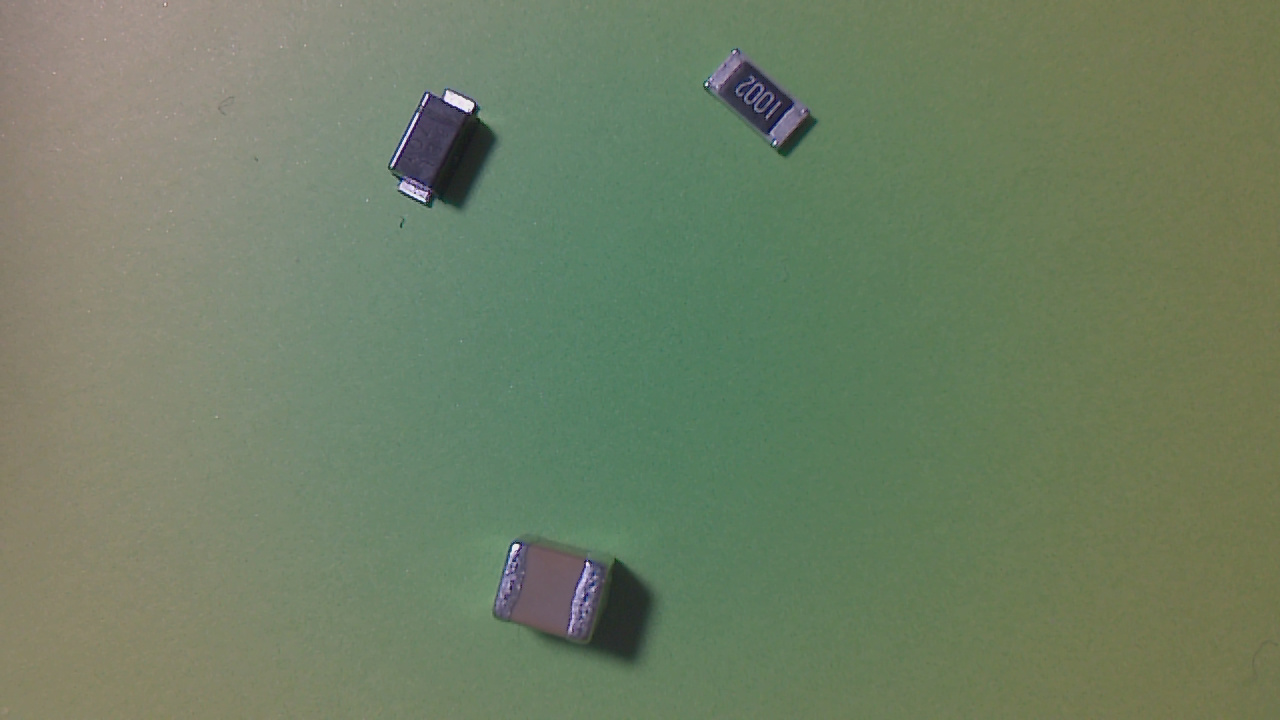Condensator: (499, 540, 613, 648)
Diode: (392, 88, 491, 211)
Resistor: (707, 51, 821, 157)
